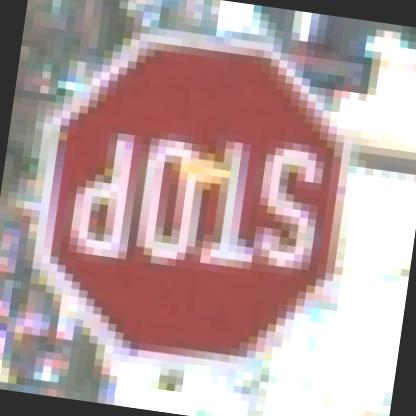stop: (9, 11, 391, 377)
